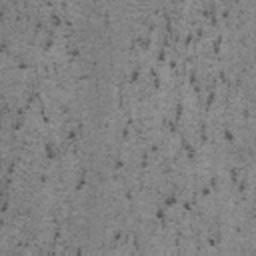Oxide scale of temperature system: (111, 9, 251, 200), (0, 159, 86, 256), (155, 165, 250, 247), (0, 0, 90, 82), (10, 90, 84, 183), (114, 228, 142, 250), (76, 178, 87, 191), (207, 238, 216, 247), (234, 227, 242, 233)
